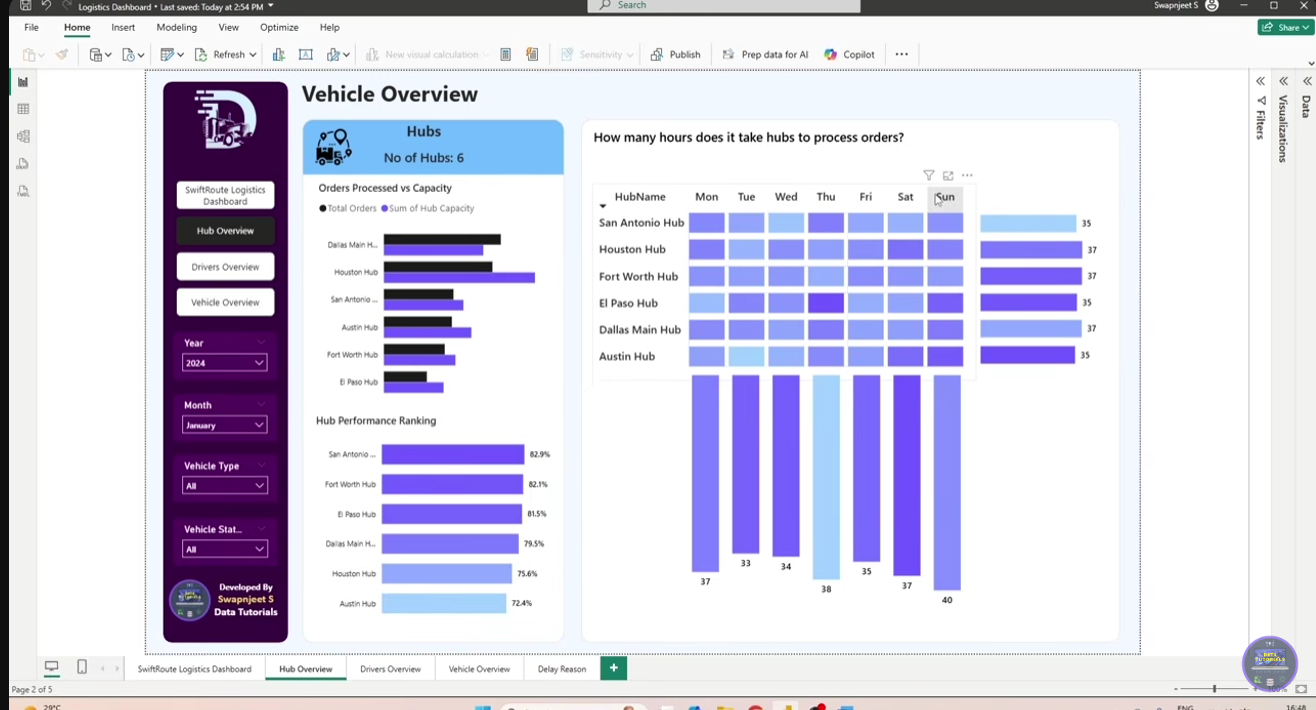

The dashboard page shown, as its layout file describes it:
{"tool":"powerbi","page":{"name":"Hubs Overview","canvas":[1920,1080],"ordinal":2},"visuals":[{"type":"textbox","box":[293,25,440.6,56.8],"z":0},{"type":"cardVisual","fields":{"Data":["Orders.Year Month Title"]},"box":[1421.8,36.3,465.6,45.4],"z":1000},{"type":"shape","box":[910.8,104.5,976.7,935.8],"z":2000},{"type":"shape","box":[293,104.5,556.5,947.1],"z":3000},{"type":"shape","box":[293,104.5,556.5,93.1],"z":4000},{"type":"cardVisual","fields":{"Data":["Hubs.No of Hubs"]},"box":[404.3,140.8,293,47.7],"z":5000},{"type":"clusteredBarChart","title":" Orders Processed vs Capacity","fields":{"Category":["Hubs.HubName"],"Y":["Sum(Hubs.Hub Capacity)","Orders.Total Orders"]},"box":[336.2,222.6,488.3,402],"z":6000},{"type":"barChart","title":"Hub Performance Ranking","fields":{"Category":["Hubs.HubName"],"Y":["Orders.On Time Delivered Rate"]},"box":[336.2,645.1,488.3,395.2],"z":7000},{"type":"textbox","box":[372.5,115.8,352.1,47.7],"z":8000},{"type":"pivotTable","fields":{"Columns":["Date Table.Day"],"Rows":["Hubs.HubName"],"Values":["Orders.Avg Delivery Time (Hrs)"]},"box":[992.6,199.9,526.9,297.5],"z":9000},{"type":"columnChart","fields":{"Category":["Date Table.Day"],"Y":["Orders.Avg Delivery Time (Hrs)"]},"box":[1122,513.3,397.5,417.9],"z":10000},{"type":"barChart","fields":{"Category":["Hubs.HubName"],"Y":["Orders.Avg Delivery Time (Hrs)"]},"box":[1537.7,222.6,299.8,274.8],"z":11000},{"type":"cardVisual","fields":{"Data":["Hubs.Hubs Title"]},"box":[1028.9,129.5,808.6,47.7],"z":12000},{"type":"shape","box":[22.7,25.5,221.1,1026.1],"z":13000},{"type":"slicer","fields":{"Values":["Date Table.Year"]},"box":[52.2,538.3,161.6,90.7],"z":14000},{"type":"slicer","fields":{"Values":["Date Table.Month"]},"box":[52.2,636,161.6,73.7],"z":15000},{"type":"pageNavigator","box":[29.5,218,204.4,270.3],"z":16000},{"type":"slicer","fields":{"Values":["Vehicles.Vehicle Status"]},"box":[52.2,708.6,161.6,73.7],"z":17000},{"type":"slicer","fields":{"Values":["Orders.Vehicle Type"]},"box":[50,804,161.3,81.8],"z":18000},{"type":"image","box":[754,116.2,70.9,73.7],"z":19000}]}

Visuals, with their boxes on the page's 1920x1080 design canvas (x1, y1, x2, y2). These are canvas units, not pixel positions in the 1316x710 screenshot, which may show the page scaled, cropped or inside an application window:
textbox: <bbox>293, 25, 734, 82</bbox>
cardVisual - Orders.Year Month Title: <bbox>1422, 36, 1887, 82</bbox>
shape: <bbox>911, 104, 1888, 1040</bbox>
shape: <bbox>293, 104, 850, 1052</bbox>
shape: <bbox>293, 104, 850, 198</bbox>
cardVisual - Hubs.No of Hubs: <bbox>404, 141, 697, 188</bbox>
" Orders Processed vs Capacity" clusteredBarChart: <bbox>336, 223, 824, 625</bbox>
"Hub Performance Ranking" barChart: <bbox>336, 645, 824, 1040</bbox>
textbox: <bbox>372, 116, 725, 164</bbox>
pivotTable - Date Table.Day x Hubs.HubName: <bbox>993, 200, 1520, 497</bbox>
columnChart - Date Table.Day x Orders.Avg Delivery Time (Hrs): <bbox>1122, 513, 1520, 931</bbox>
barChart - Hubs.HubName x Orders.Avg Delivery Time (Hrs): <bbox>1538, 223, 1838, 497</bbox>
cardVisual - Hubs.Hubs Title: <bbox>1029, 130, 1838, 177</bbox>
shape: <bbox>23, 26, 244, 1052</bbox>
slicer - Date Table.Year: <bbox>52, 538, 214, 629</bbox>
slicer - Date Table.Month: <bbox>52, 636, 214, 710</bbox>
pageNavigator: <bbox>30, 218, 234, 488</bbox>
slicer - Vehicles.Vehicle Status: <bbox>52, 709, 214, 782</bbox>
slicer - Orders.Vehicle Type: <bbox>50, 804, 211, 886</bbox>
image: <bbox>754, 116, 825, 190</bbox>
